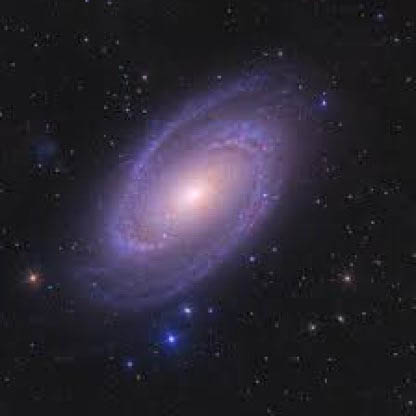Messier 81: (63, 54, 314, 345)
